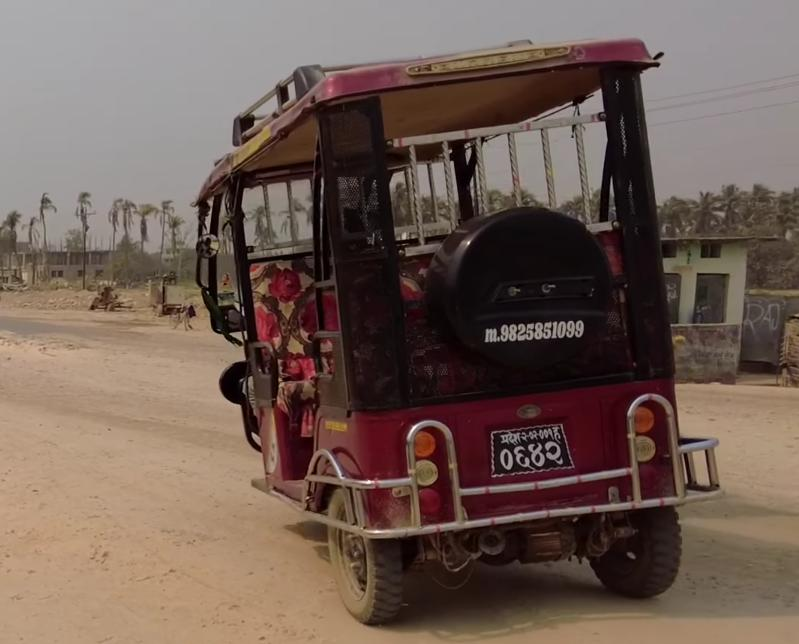e-rickshaw: (192, 30, 724, 624)
